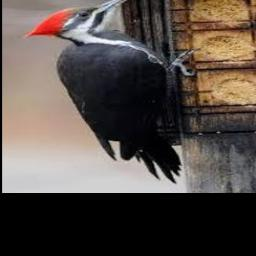Woodpecker: (24, 0, 197, 183)
